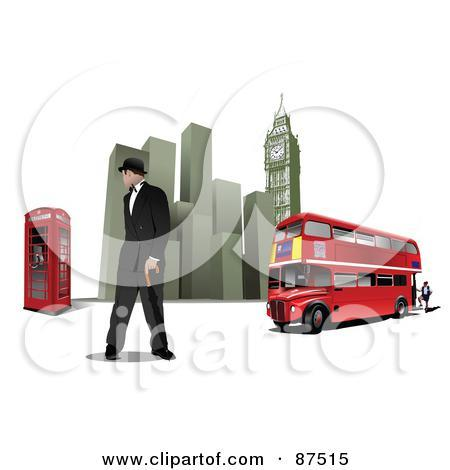bus: (246, 210, 421, 334)
person: (97, 155, 188, 363), (414, 280, 435, 313)
